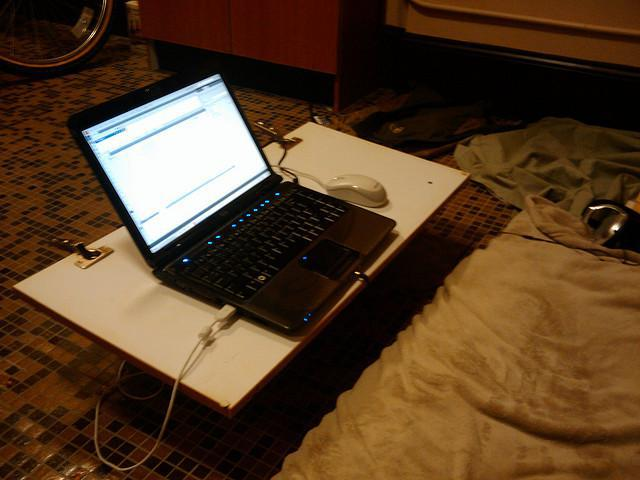tv: (71, 89, 344, 319)
